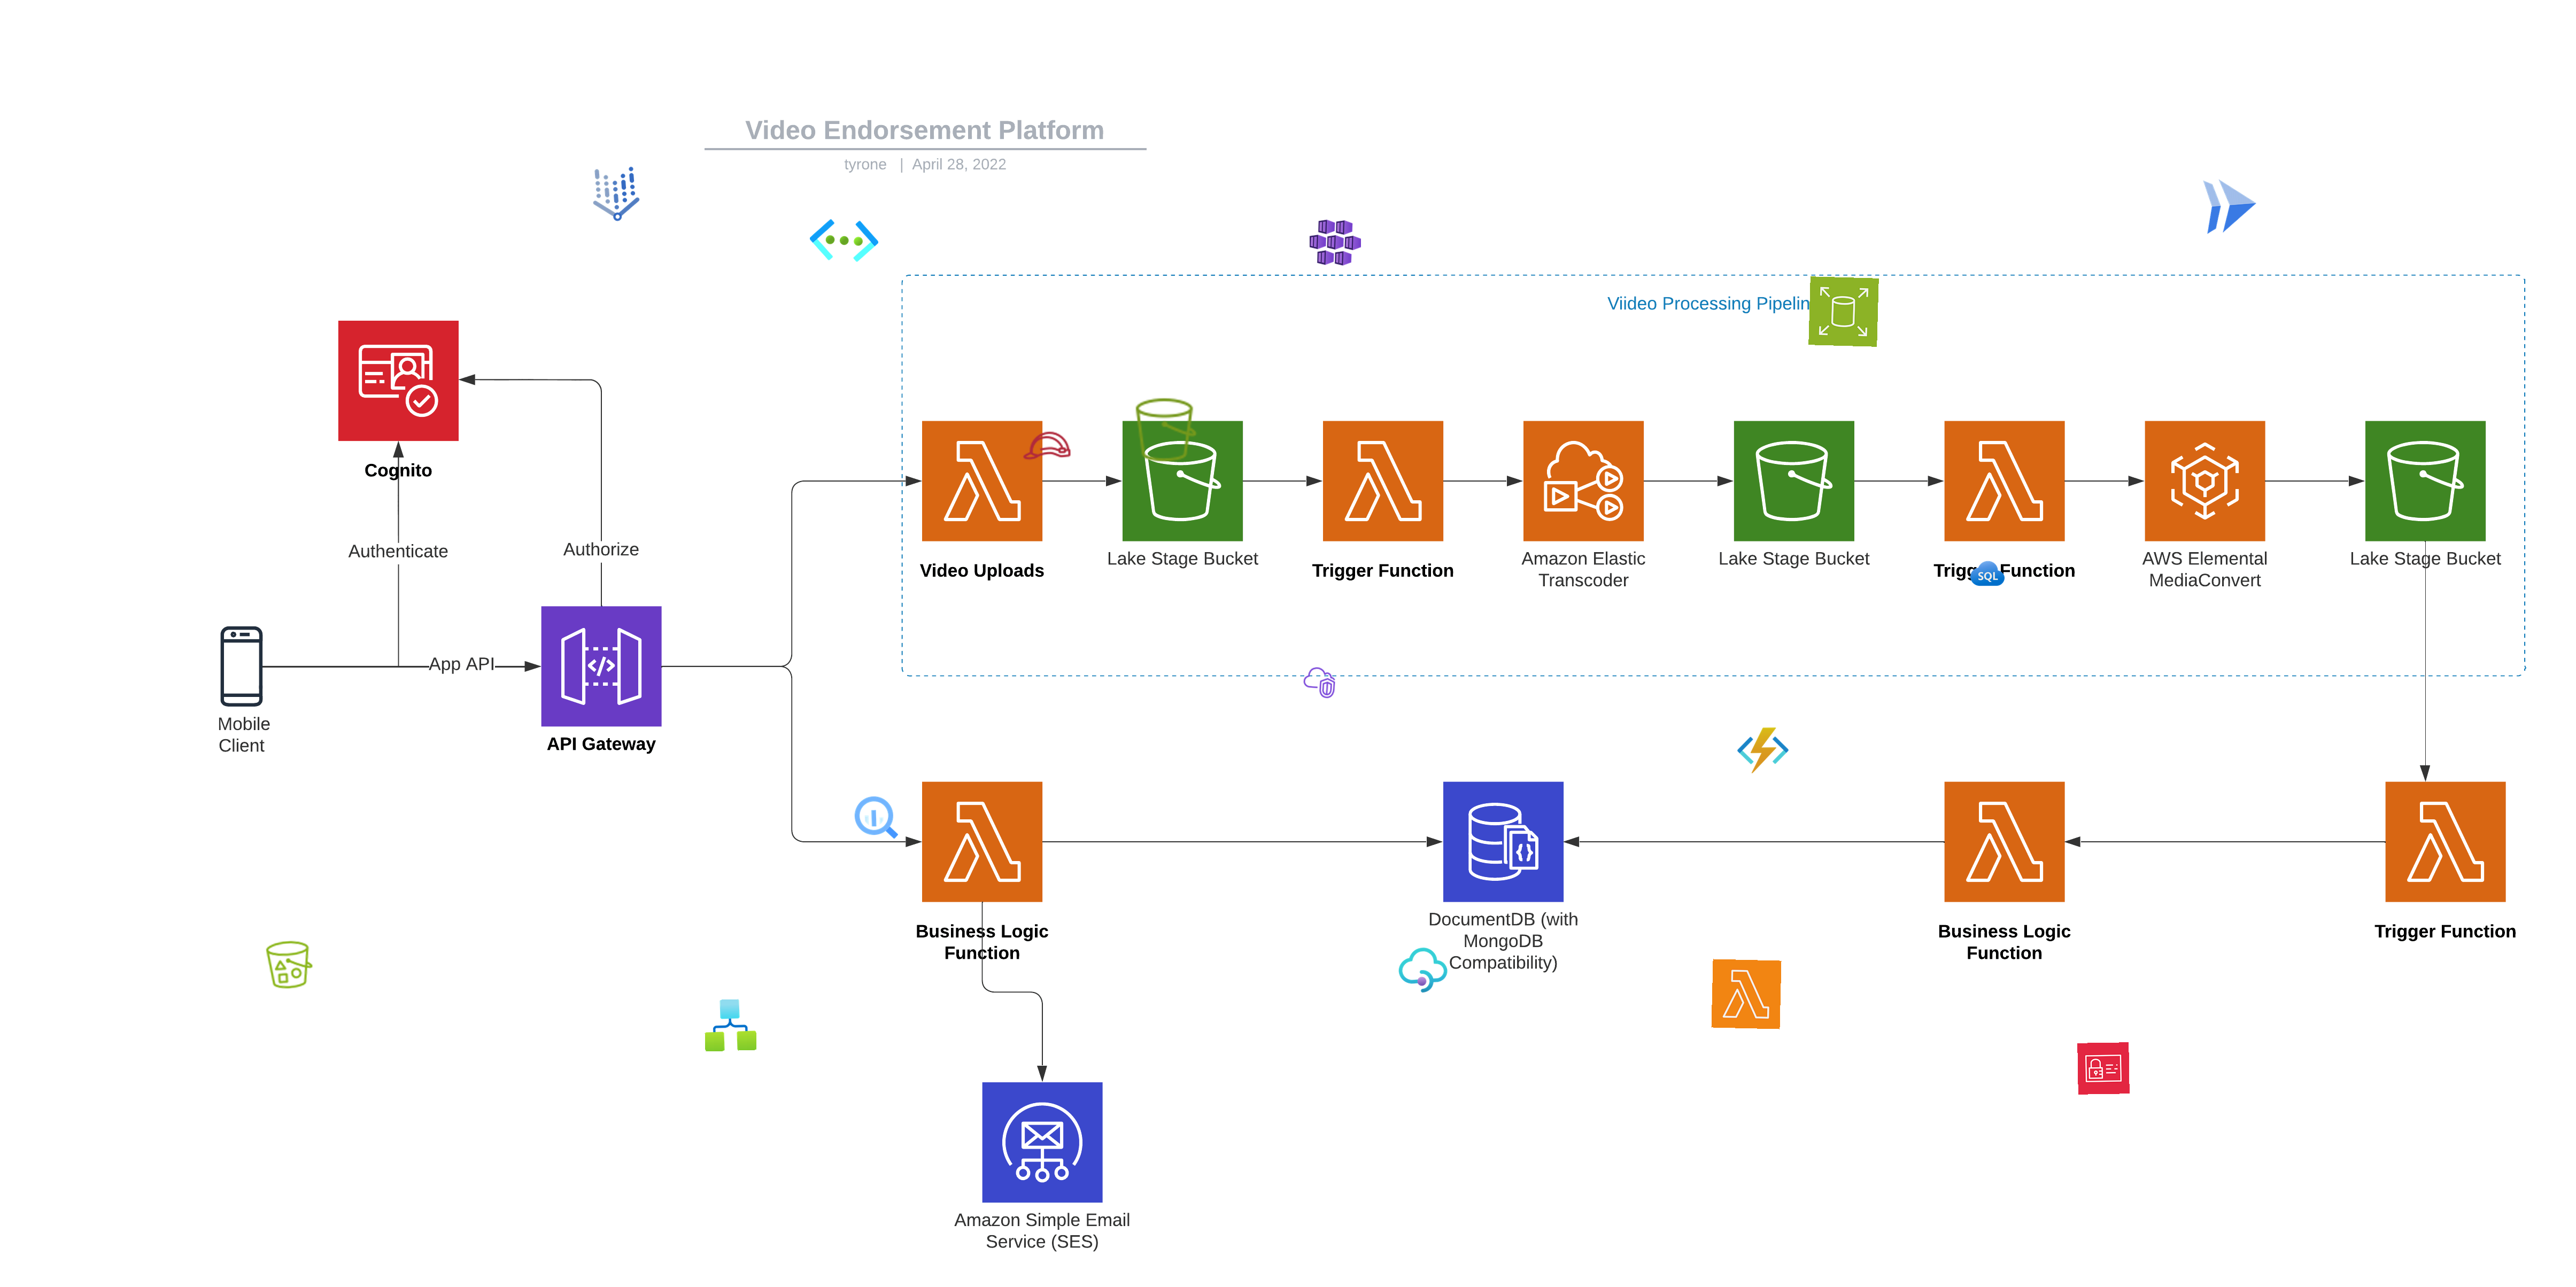aws_amazon_elastic_block_store: (1809, 276, 1879, 346)
aws_identity_access_management_role: (1020, 419, 1073, 473)
aws_identity_and_access_management: (2077, 1042, 2129, 1095)
aws_lambda: (1712, 959, 1781, 1029)
aws_simple_storage_service_bucket_with_objects: (261, 937, 317, 993)
aws_simple_storage_service_s3_standard: (1132, 396, 1201, 465)
aws_vpc_virtual_private_cloud_vpc: (1301, 663, 1337, 701)
azure_api_management_services: (1396, 942, 1451, 998)
azure_function_apps: (1737, 724, 1789, 776)
azure_kubernetes_services: (1309, 215, 1362, 269)
azure_logic_apps: (703, 998, 757, 1052)
azure_sql: (1970, 556, 2004, 591)
azure_virtual_networks: (808, 204, 881, 277)
gcp_bigquery: (849, 791, 904, 844)
gcp_cloud_run: (2193, 169, 2267, 241)
gcp_vertex_ai: (578, 158, 652, 231)
